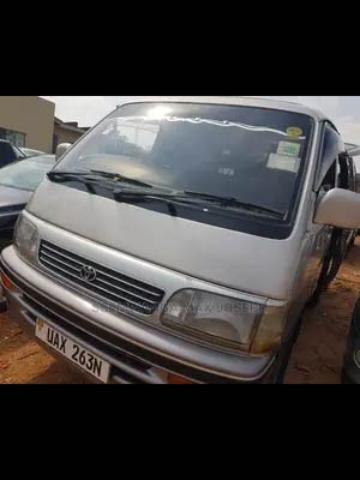van: (2, 98, 358, 381)
